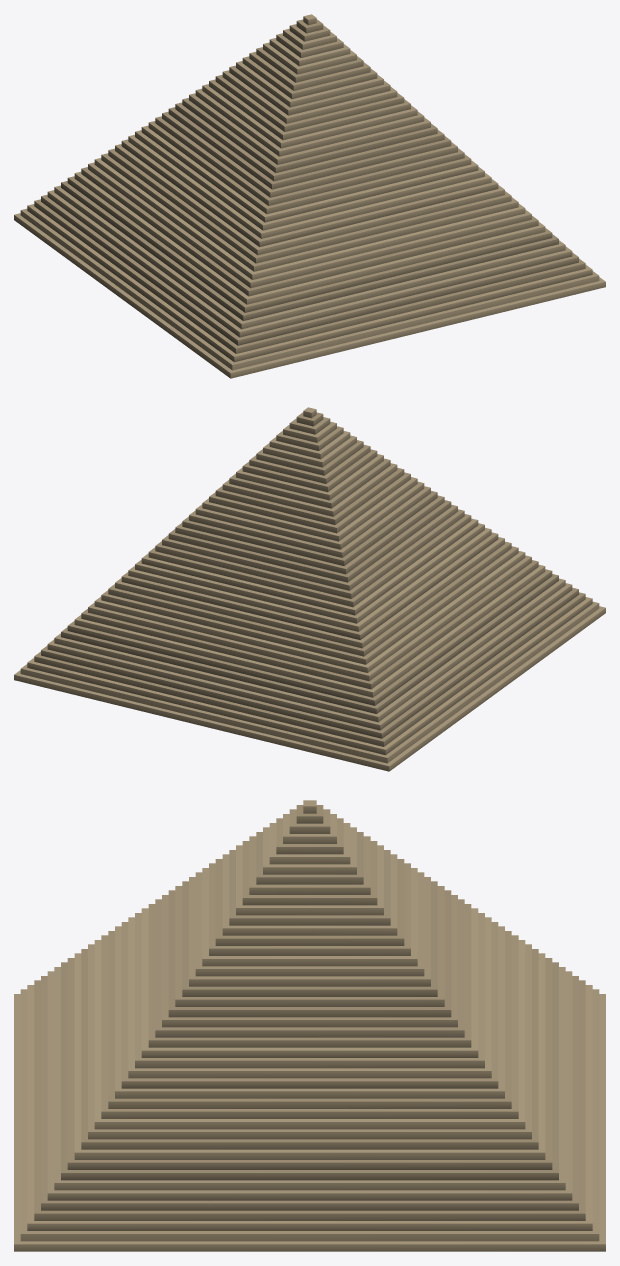
The model's file is cheops.glb.
The picture shows the model from 3 angles, top to bottom: view 1: azimuth 30°, elevation 25°; view 2: azimuth 150°, elevation 25°; view 3: azimuth 270°, elevation 25°; orthographic projection. The views are drawn at different scales.
Parts seen in each view (by area): view 1: lack; view 2: lack; view 3: lack.
Boxes of the visible parts, bbox=[...] form: lack: bbox=[14, 14, 605, 378]; lack: bbox=[14, 407, 605, 771]; lack: bbox=[14, 800, 605, 1251].
Bounding box in the file's own units: 230 × 138 × 230.
